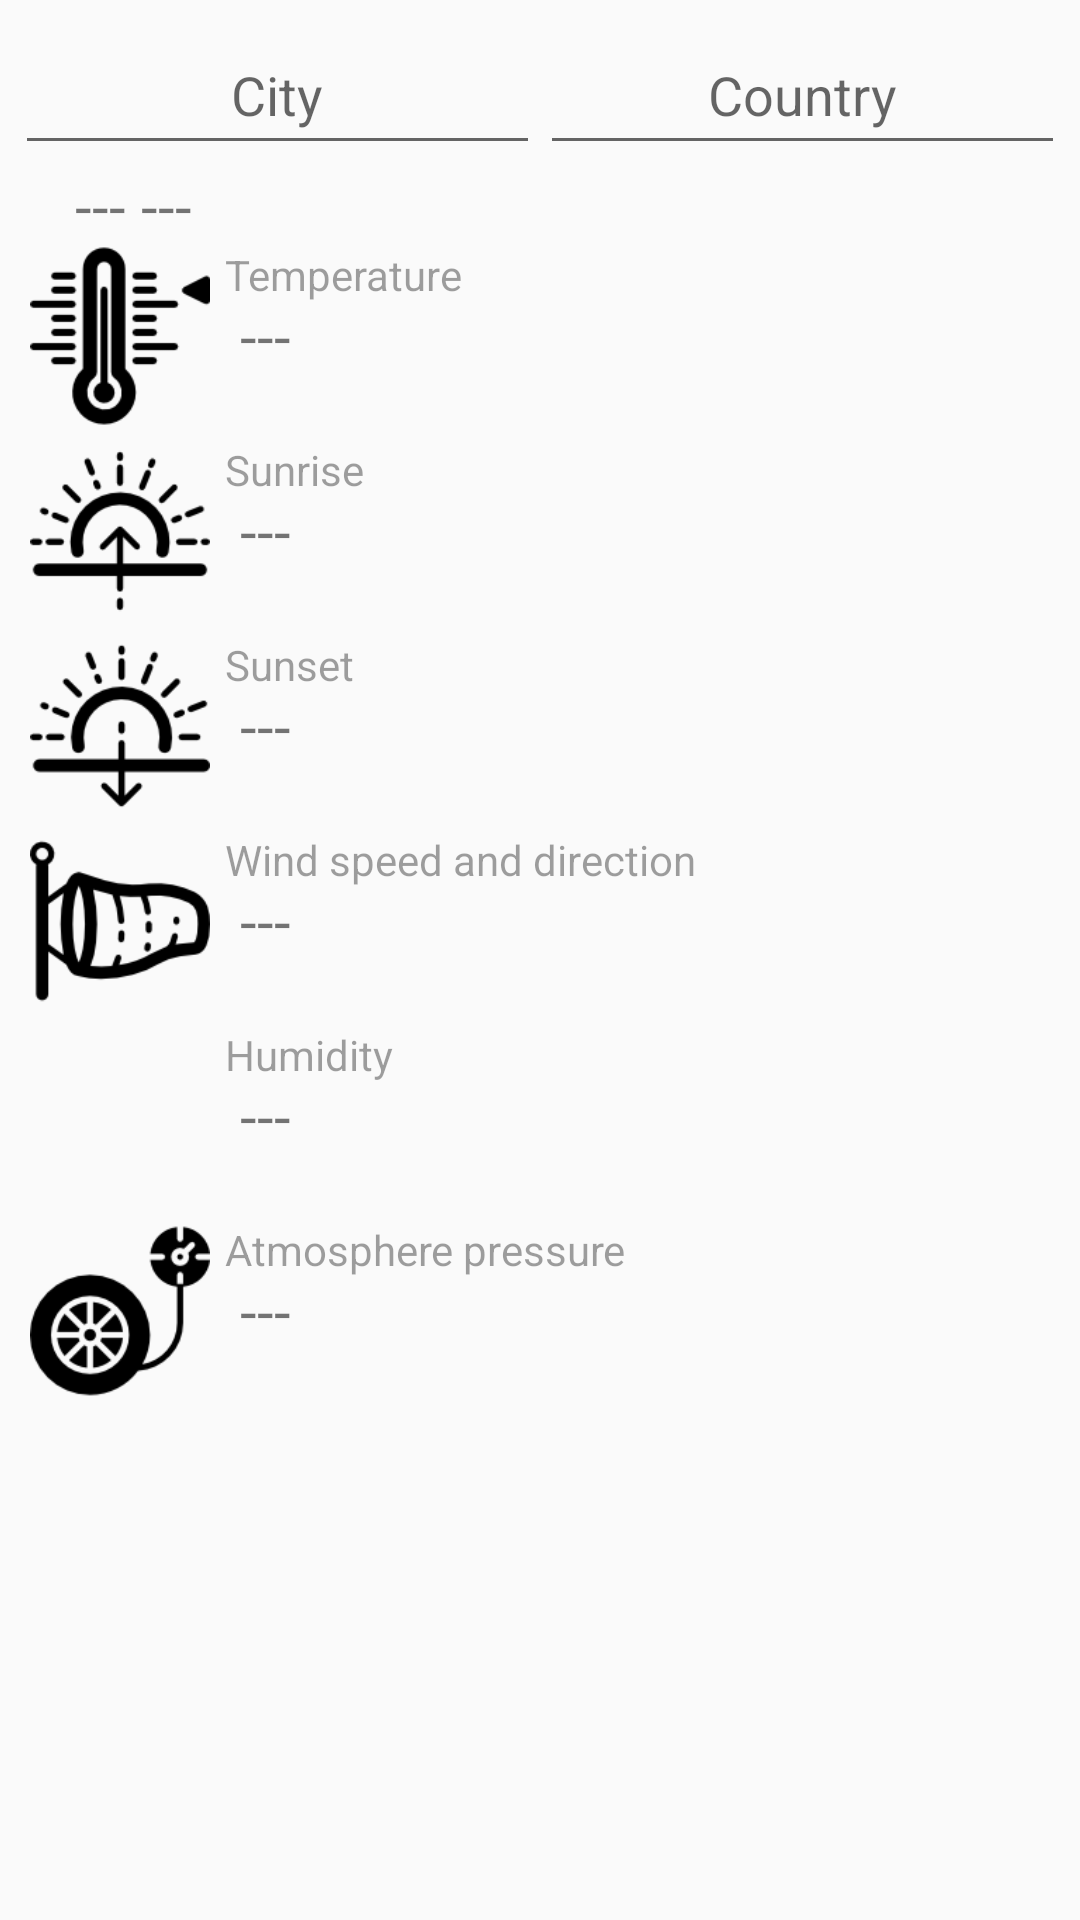

Locate icon controls on the screen. Image size 1080px×1920px, boxes as bbox=[x1, y1, x2, y2].
thermometer: bbox=[30, 247, 210, 425]
windsock: bbox=[30, 841, 210, 1001]
